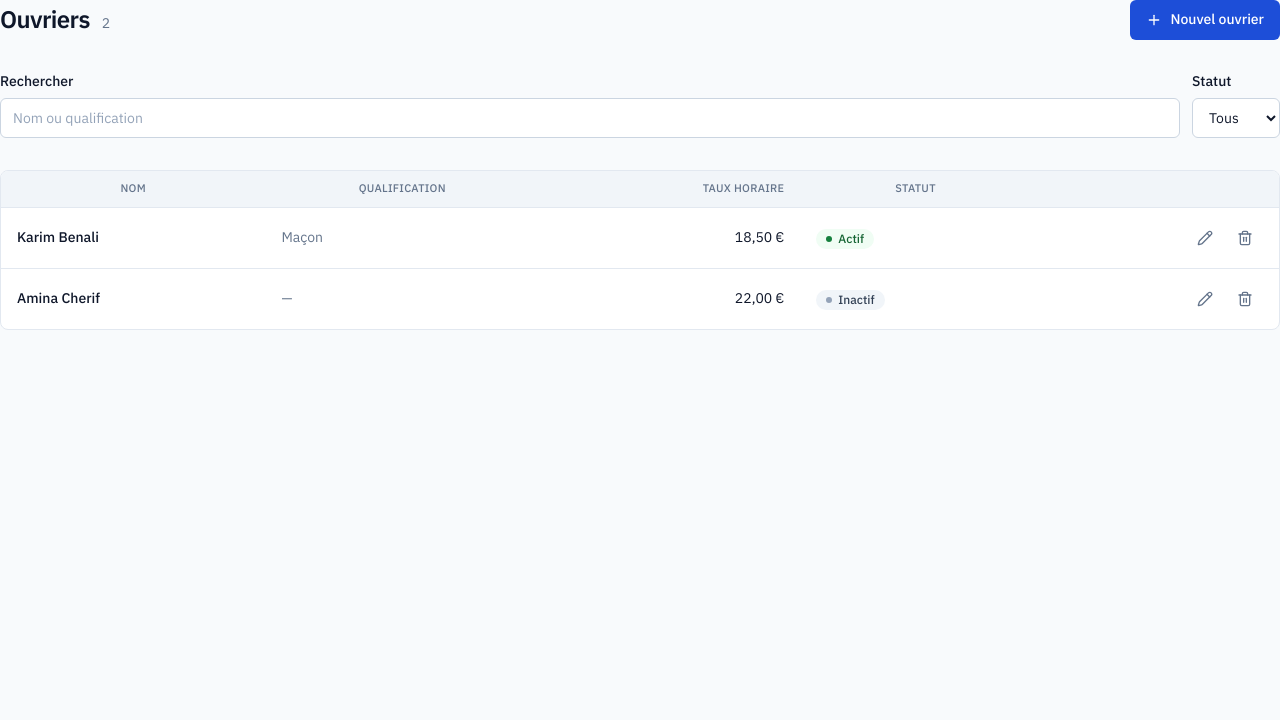
Test: WorkerListPage › opens the create drawer, and it starts empty
Click the button "Nouvel ouvrier". click: coordinates (1205, 20)
box: [1130,0,1279,40]
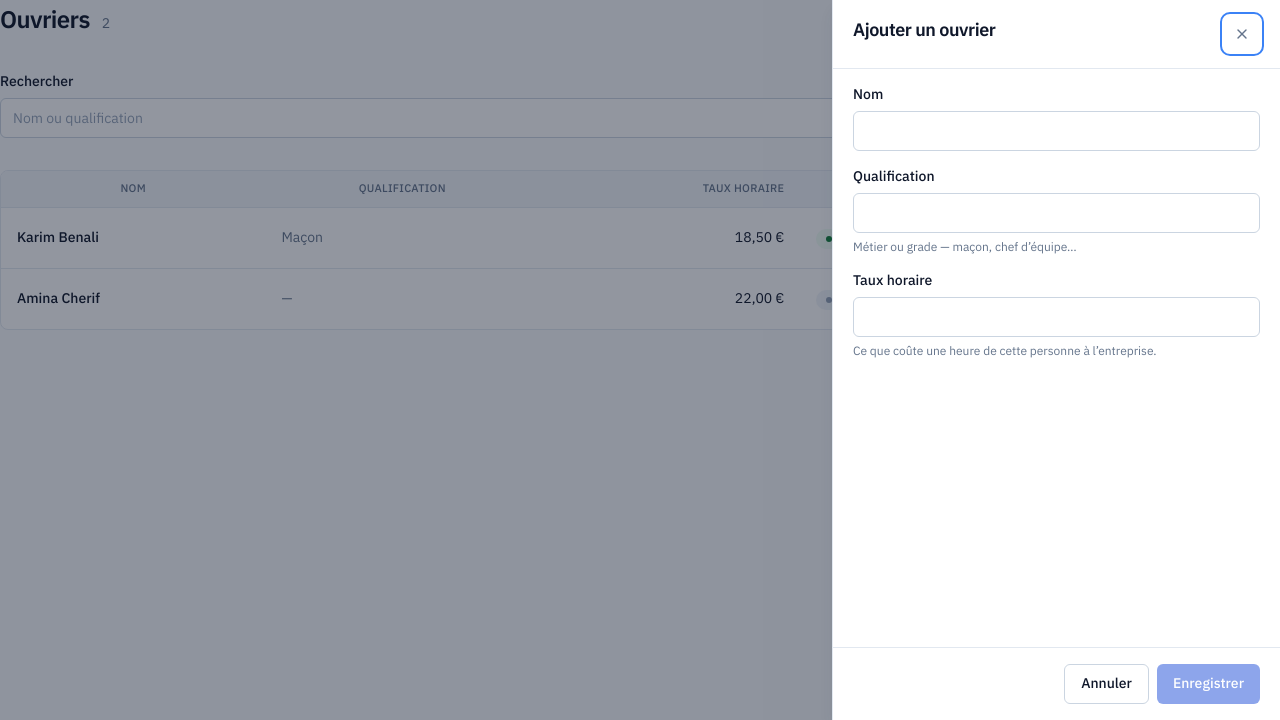
Result: the heading "Ajouter un ouvrier" is shown at [853,16,995,44]
Result: the field labelled "Nom" is empty at [853,111,1260,151]
